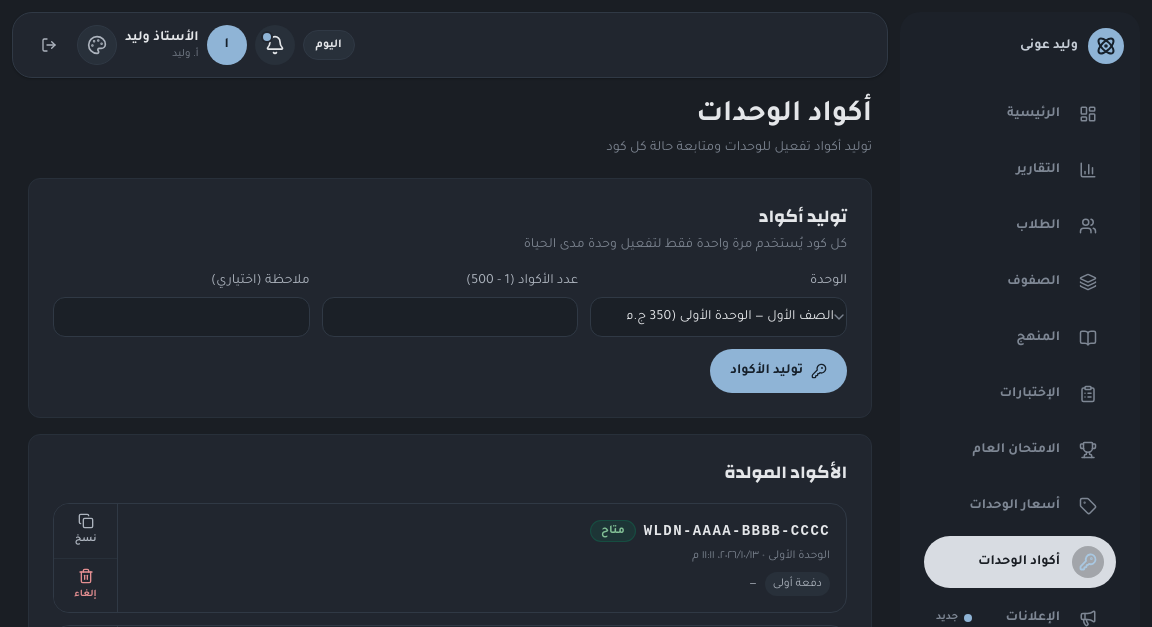
Test case: CodesPage › shows the existing codes for the selected unit and revokes one with the confirm modal
The width and height of the screenshot is (1152, 627).
Check: the text "متاح" is shown, box [590, 520, 636, 542]
Check: the text "دفعة أولى" is shown, box [765, 572, 830, 596]
Click the button "إلغاء" in the row of "دفعة أولى": (86,585) [54, 558, 117, 612]
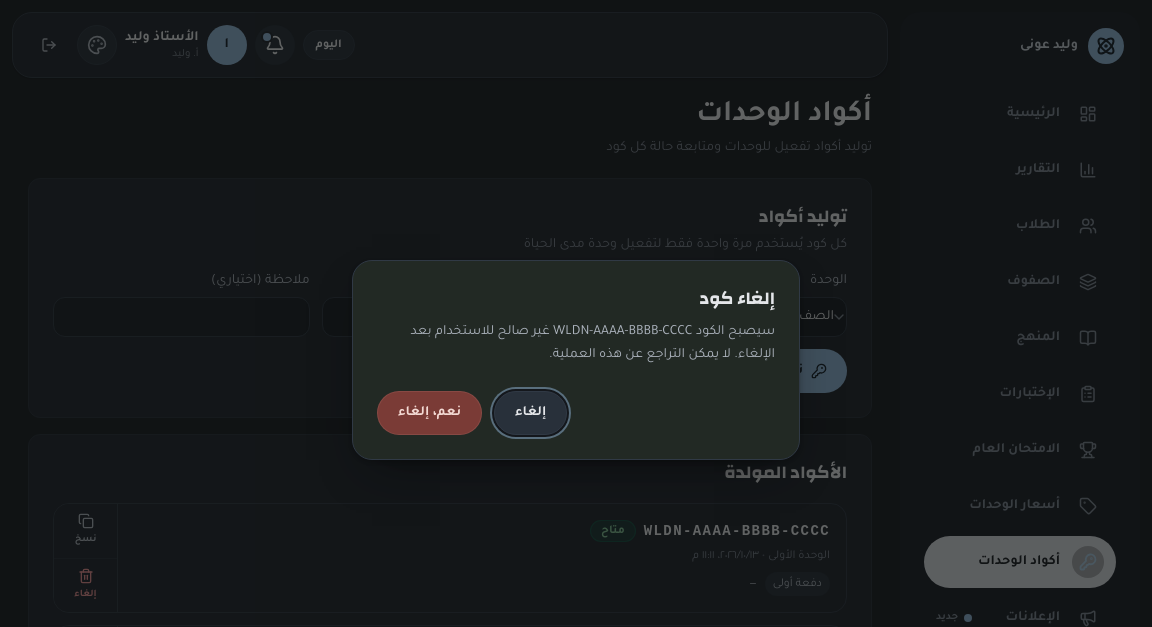
Check: the dialog shows "WLDN-AAAA-BBBB-CCCC", box [411, 325, 775, 362]
Click the button "نعم، إلغاء": (430,413) [377, 391, 482, 435]
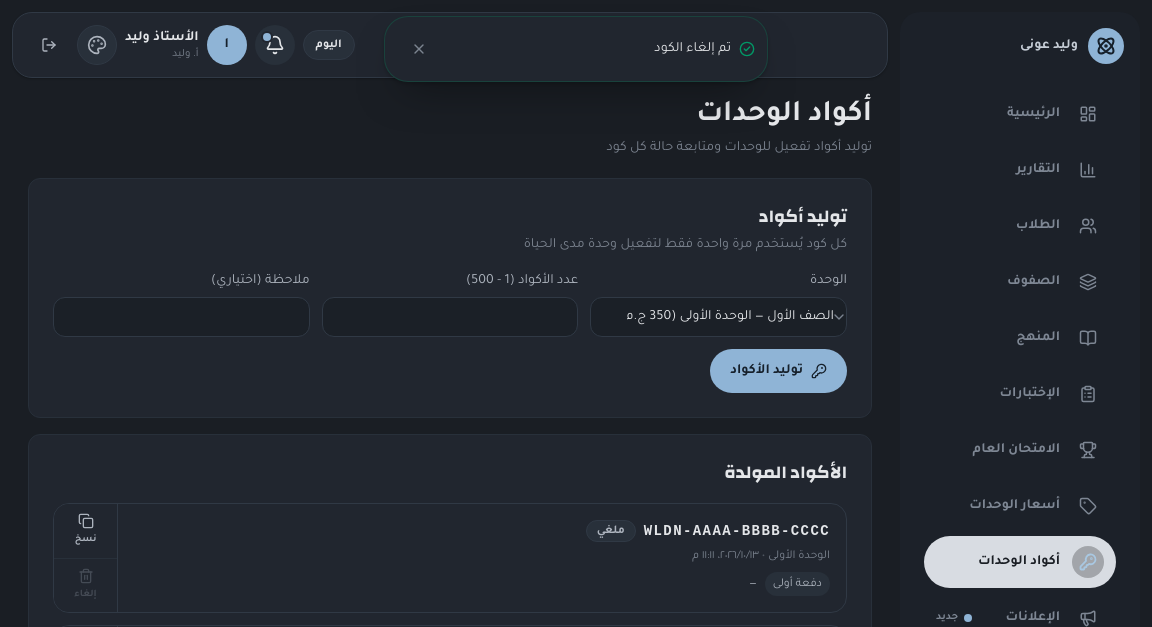
Check: the text "تم إلغاء الكود" is shown, box [654, 42, 731, 56]
Check: the text "ملغي" is shown, box [586, 520, 636, 542]
